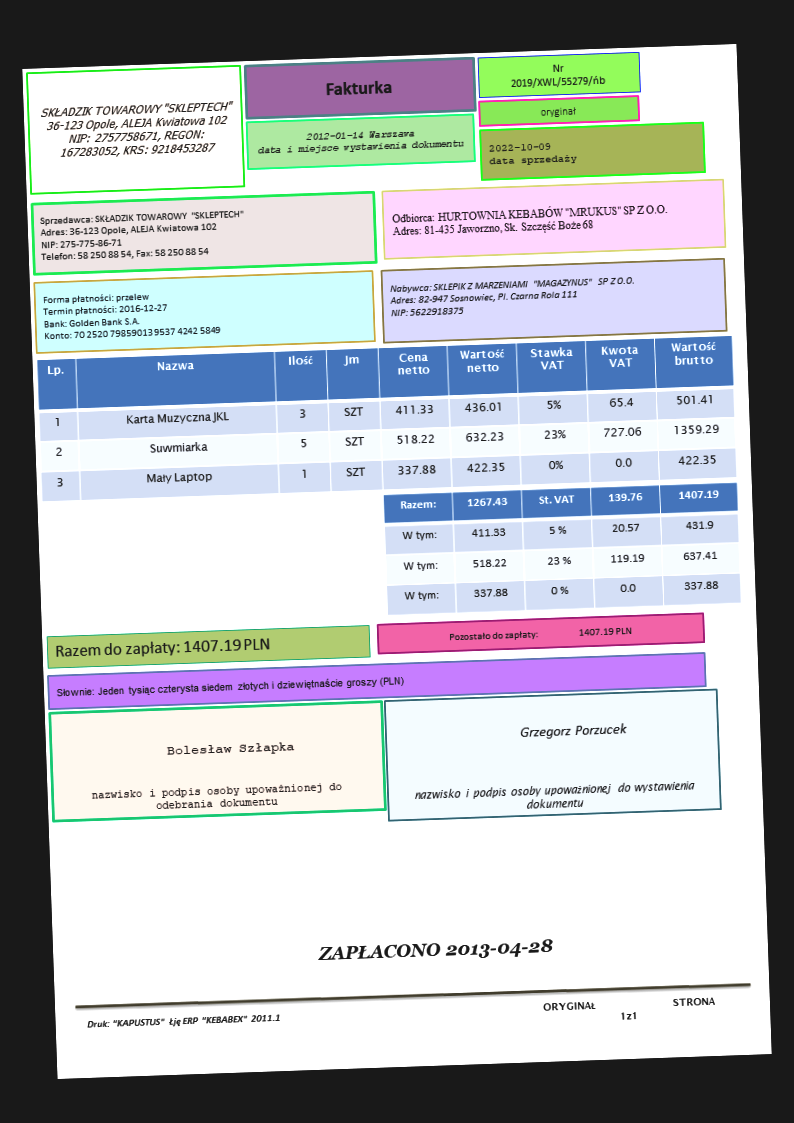Table: (35, 333, 737, 504), (382, 479, 743, 617)
TextBox: (38, 97, 238, 160), (37, 205, 248, 264), (387, 273, 638, 321), (388, 199, 670, 239), (412, 778, 697, 817), (39, 285, 223, 343), (54, 672, 406, 700), (88, 779, 345, 813), (314, 934, 556, 968), (255, 125, 466, 158), (539, 992, 720, 1027), (51, 633, 271, 661), (84, 1009, 283, 1032), (445, 622, 635, 645), (507, 58, 606, 92), (163, 737, 295, 761), (485, 139, 580, 170), (517, 720, 629, 741), (322, 77, 394, 99), (538, 104, 579, 119)
